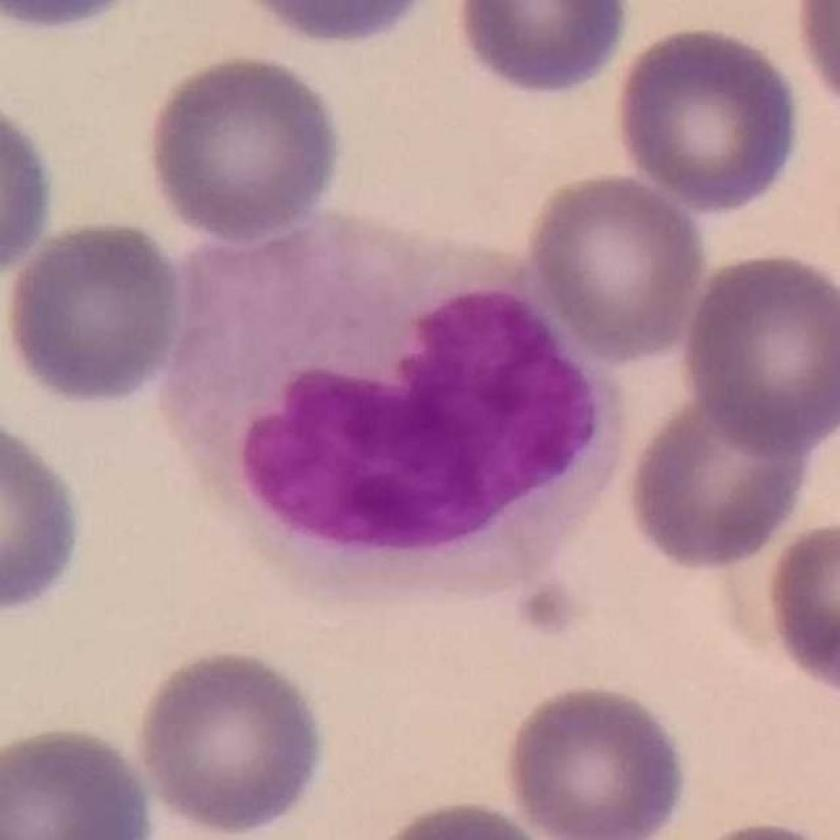monocyte: (163, 195, 644, 617)
